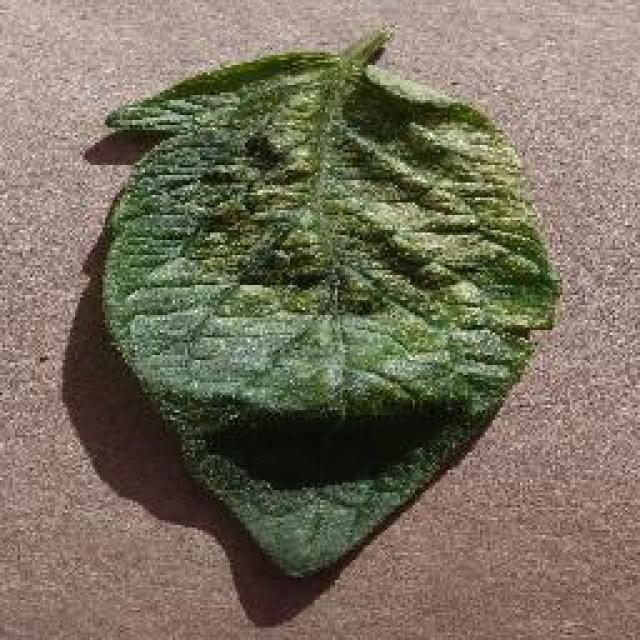Tomato___Spider_mites Two-spotted_spider_mite: (102, 32, 558, 575)
